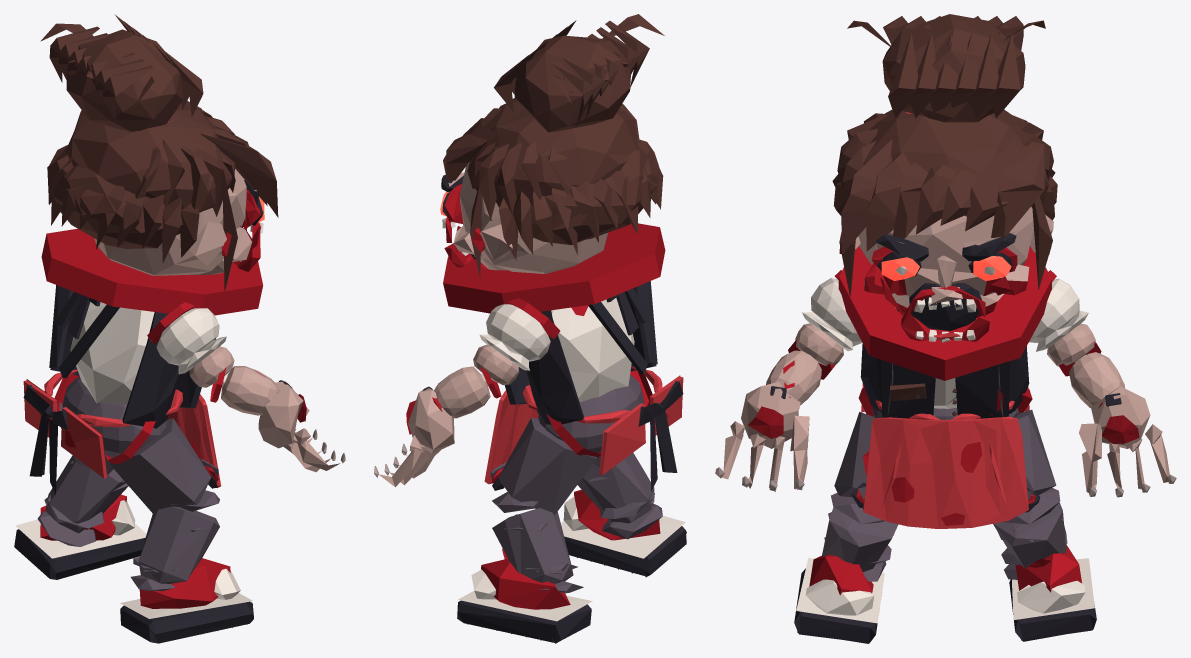
File: inf.cashier.lod1.glb
3 renders of one model, left to right at view 1: azimuth 30°, elevation 25°; view 2: azimuth 150°, elevation 25°; view 3: azimuth 270°, elevation 25°, orthographic. The views are drawn at different scales.
Parts seen in each view (by area): view 1: head, torso, stump_head, hip, footR, legR, footL, shinR, shinL, armR, handR, foreArmR (+2 smaller); view 2: head, torso, stump_head, hip, footL, footR, legL, shinL, shinR, armL, handL, foreArmL (+2 smaller); view 3: head, hip, stump_head, torso, footR, footL, handR, handL, shinR, shinL, armR, armL (+4 smaller).
Part boxes in pixels (x1,y1,x2,y2): head: [40, 14, 278, 290]; torso: [49, 285, 215, 428]; stump_head: [41, 228, 263, 315]; hip: [23, 369, 221, 494]; footR: [120, 558, 253, 643]; legR: [109, 418, 218, 514]; footL: [14, 494, 146, 579]; shinR: [130, 490, 219, 591]; shinL: [37, 455, 128, 546]; armR: [156, 308, 234, 387]; handR: [258, 381, 345, 472]; foreArmR: [221, 366, 292, 415]; head: [440, 14, 664, 278]; torso: [504, 281, 657, 424]; stump_head: [443, 223, 665, 313]; hip: [484, 366, 683, 491]; footL: [457, 558, 592, 643]; footR: [561, 489, 686, 577]; legL: [490, 418, 596, 515]; shinL: [492, 492, 583, 593]; shinR: [577, 453, 662, 539]; armL: [473, 304, 550, 385]; handL: [374, 388, 454, 487]; foreArmL: [422, 366, 490, 418]; head: [832, 14, 1057, 342]; hip: [861, 383, 1029, 528]; stump_head: [838, 246, 1051, 380]; torso: [860, 343, 1029, 418]; footR: [794, 554, 884, 643]; footL: [1009, 545, 1096, 641]; handR: [715, 382, 809, 491]; handL: [1079, 386, 1176, 497]; shinR: [822, 493, 898, 581]; shinL: [993, 488, 1067, 579]; armR: [795, 278, 862, 365]; armL: [1029, 278, 1095, 366].
Size of the model in its own units: 0.7286 by 1.79 by 1.27.
